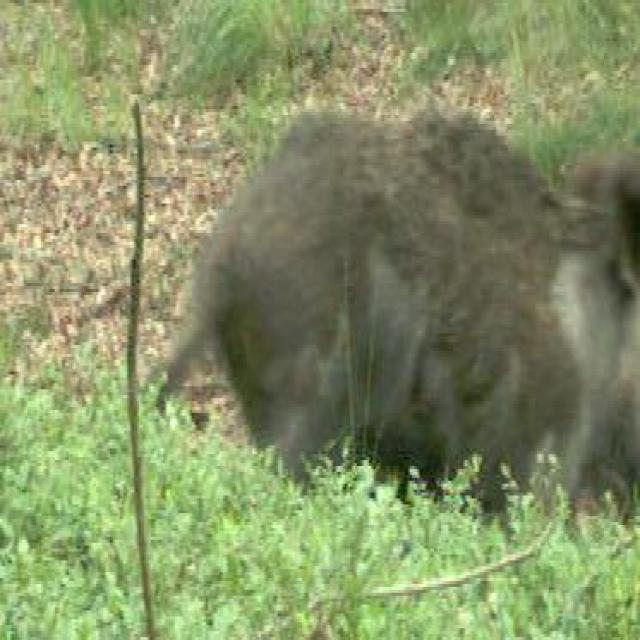pig: (165, 59, 640, 564)
